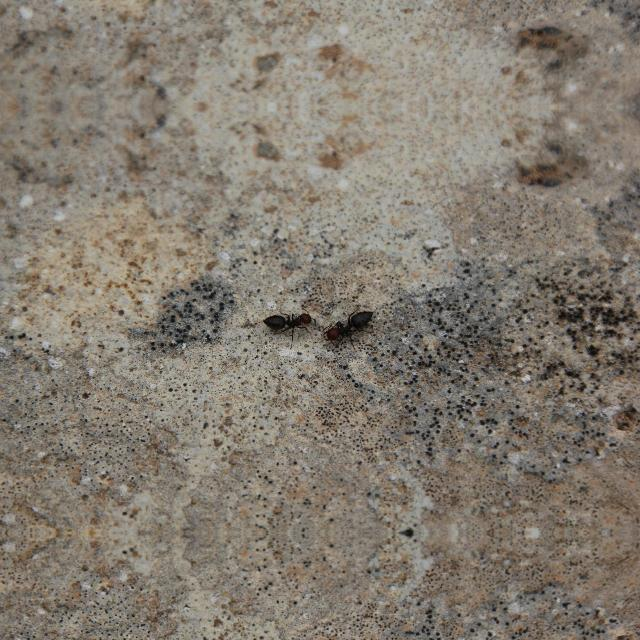Crematogaster: (320, 304, 374, 348), (258, 306, 310, 336)
